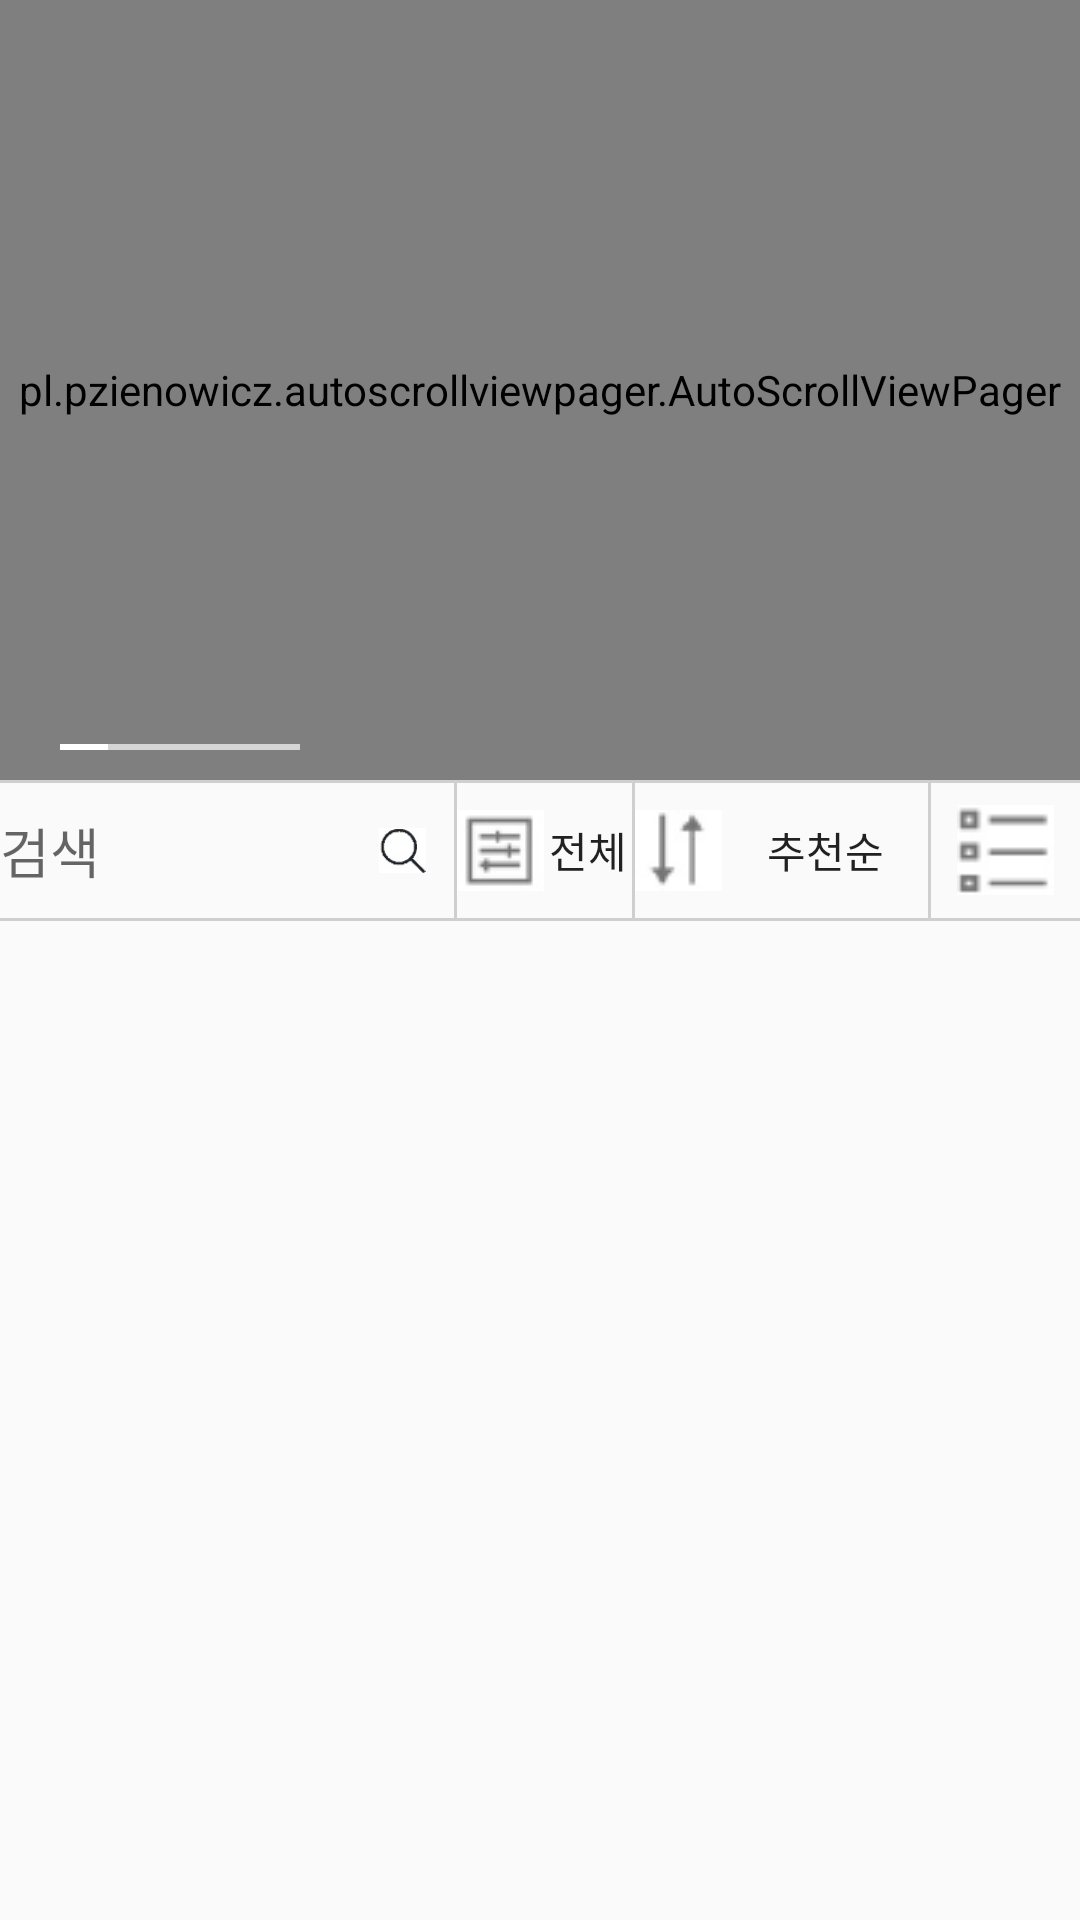

Icons on this 1080*1920 Android screen, each with the point to tap as (x=x, y=y):
search: (x=403, y=851)
